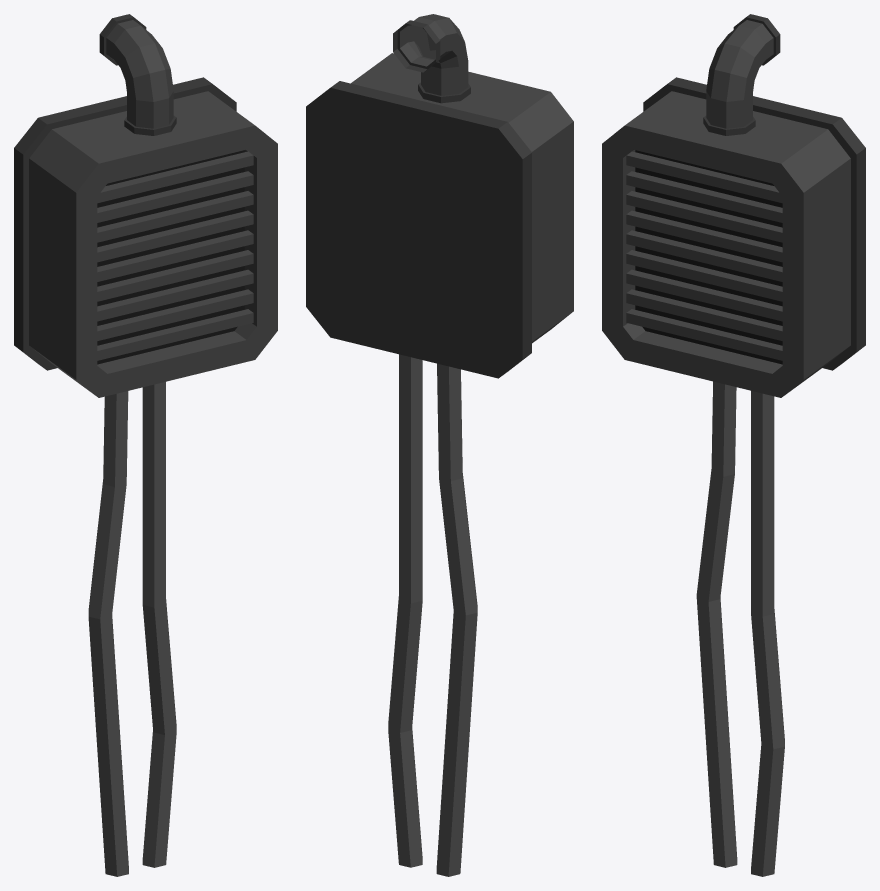
The model's file is SM_Buildings_Part_12.fbx.
The picture shows the model from 3 angles, left to right: view 1: azimuth 30°, elevation 25°; view 2: azimuth 150°, elevation 25°; view 3: azimuth 330°, elevation 25°; orthographic projection.
Visible parts, largest first — view 1: SM_Buildings_Part_12; view 2: SM_Buildings_Part_12; view 3: SM_Buildings_Part_12.
Part boxes in pixels (<box>): SM_Buildings_Part_12: <box>14,14,277,876</box>; SM_Buildings_Part_12: <box>306,14,573,876</box>; SM_Buildings_Part_12: <box>602,14,865,876</box>.
Size of the model in its own units: 58.87 by 221 by 26.87.
